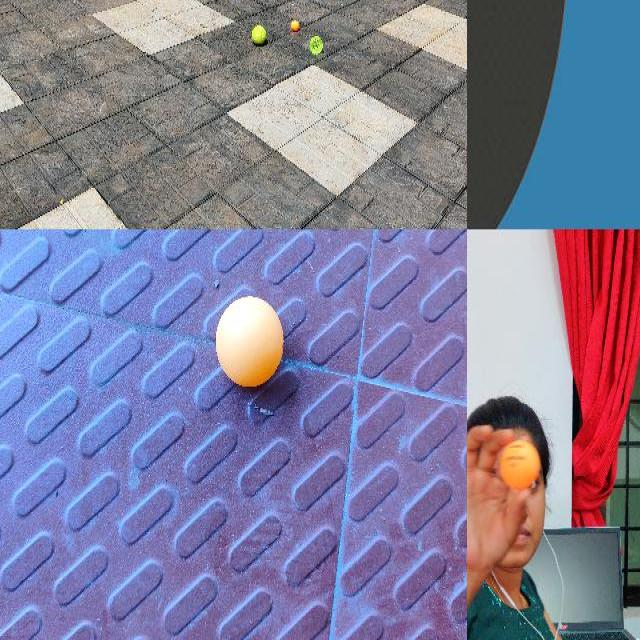ping-pong-ball: (215, 297, 283, 388), (501, 442, 539, 489), (289, 20, 299, 31)
